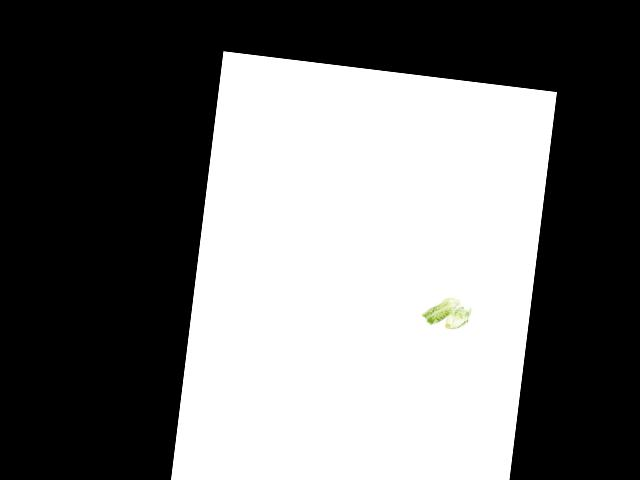lettuce: (442, 303, 473, 335)
